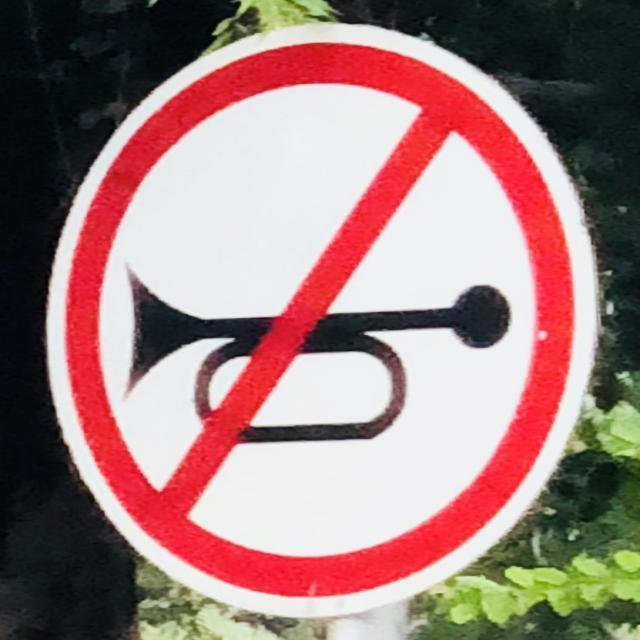horn prohibited: (45, 26, 596, 612)
